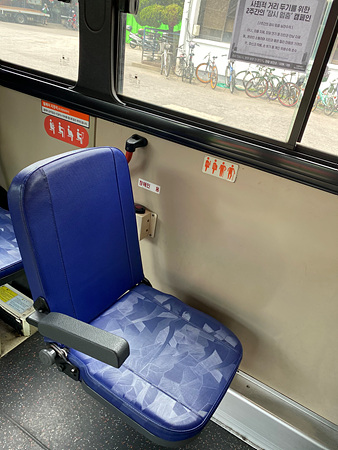seat: (10, 144, 243, 440)
